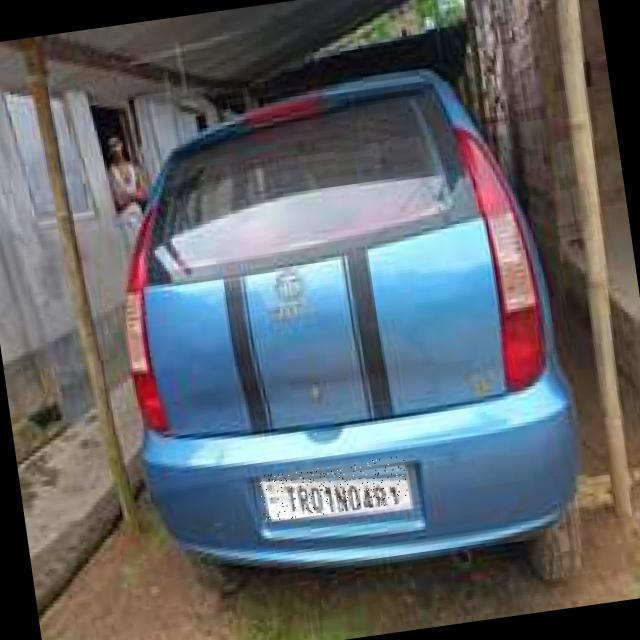Plate: (259, 457, 411, 524)
